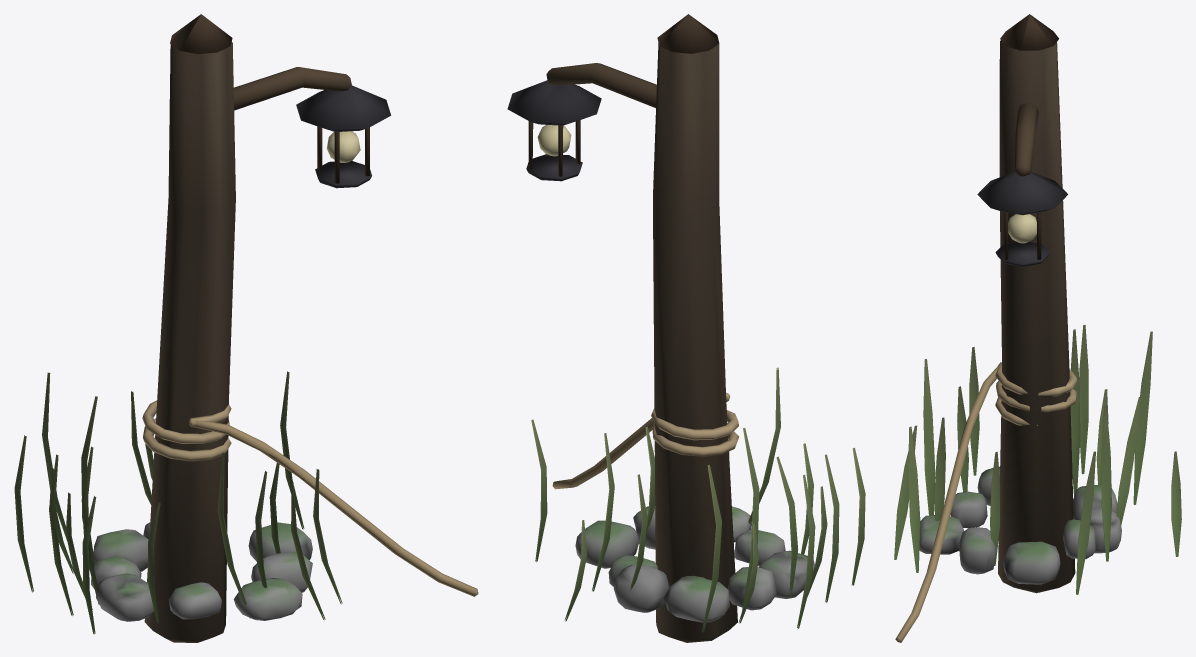
Rendered from ferrypost.glb.
3 renders of one model, left to right at view 1: azimuth 30°, elevation 25°; view 2: azimuth 150°, elevation 25°; view 3: azimuth 270°, elevation 25°, orthographic. The views are drawn at different scales.
Visible parts, largest first — view 1: ferrypost; view 2: ferrypost; view 3: ferrypost.
Part boxes in pixels (<box>): ferrypost: <box>14,14,478,642</box>; ferrypost: <box>507,14,865,642</box>; ferrypost: <box>894,14,1181,642</box>.
Size of the model in its own units: 1.7 by 2.8 by 1.26.
